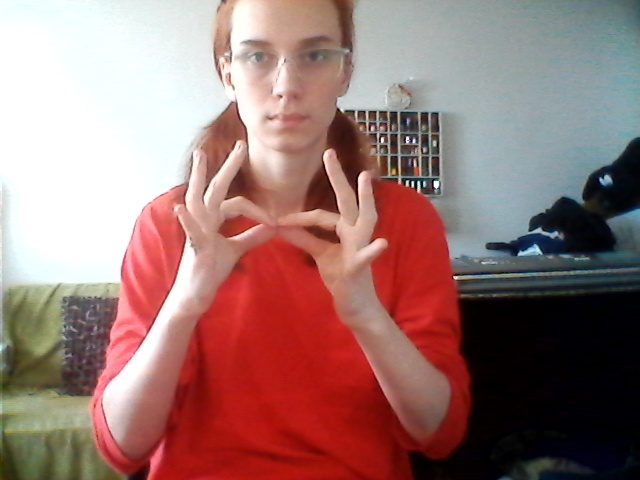b: (170, 136, 386, 335)
